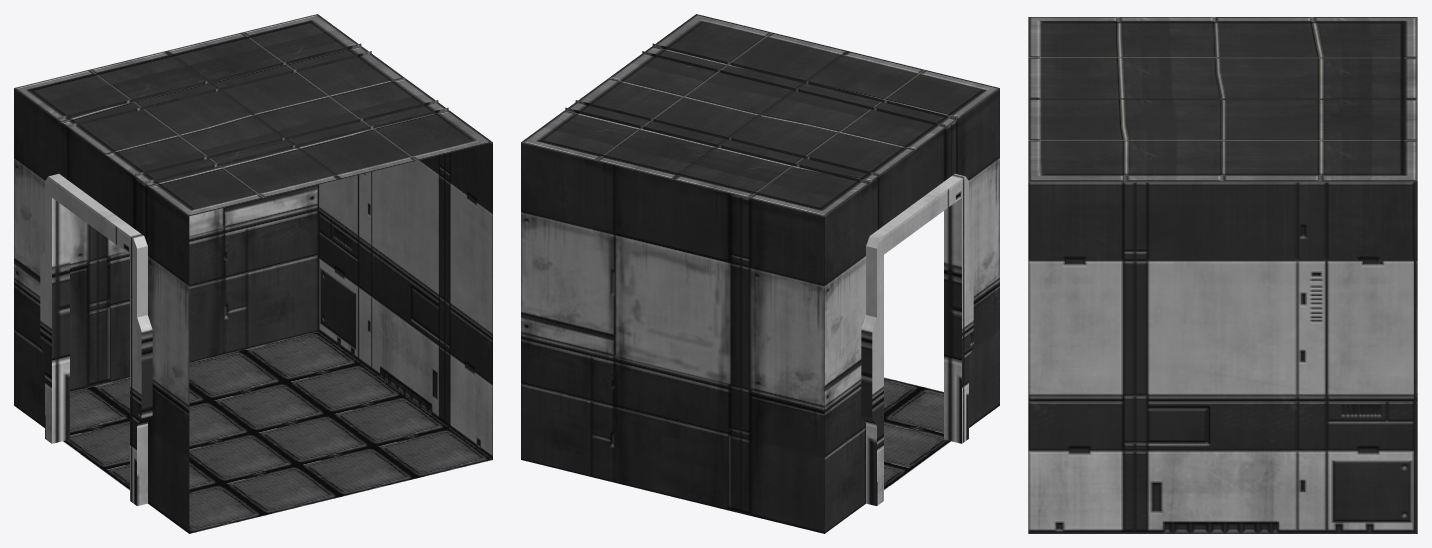
Rendered from CorridorCap1.fbx.
The picture shows the model from 3 angles, left to right: view 1: azimuth 30°, elevation 25°; view 2: azimuth 150°, elevation 25°; view 3: azimuth 270°, elevation 25°; orthographic projection. The views are drawn at different scales.
Visible parts, largest first — view 1: CorridorCap1; view 2: CorridorCap1; view 3: CorridorCap1.
Boxes of the visible parts, left/top/right/bottom form: CorridorCap1: left=14, top=14, right=492, bottom=533; CorridorCap1: left=521, top=14, right=999, bottom=533; CorridorCap1: left=1028, top=17, right=1417, bottom=533.
Size of the model in its own units: 5.18 by 5.04 by 5.
